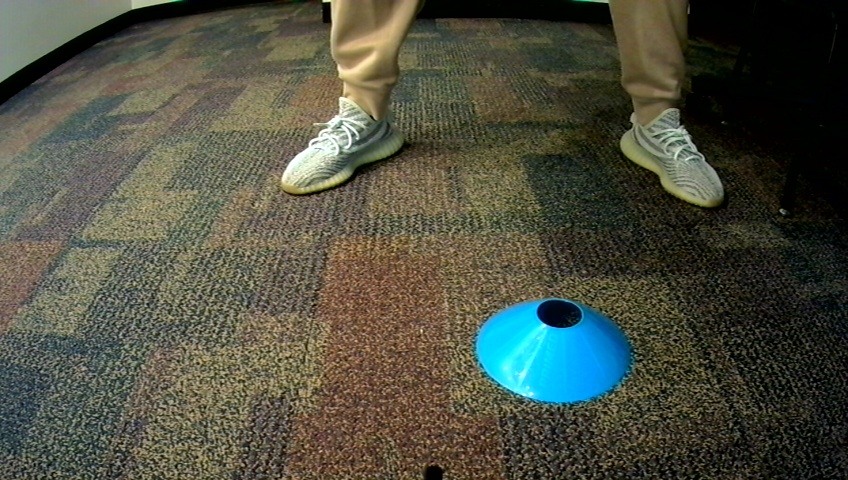cone: (473, 292, 632, 406)
